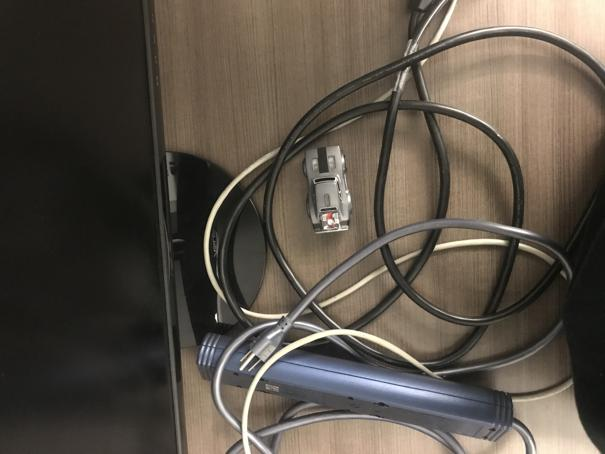Charger: (302, 145, 354, 235)
